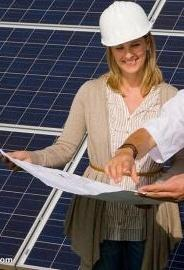hard-hat: (99, 0, 151, 47)
